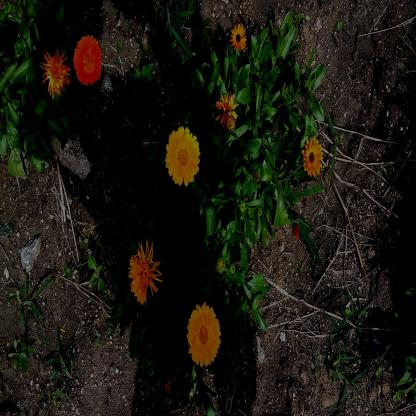marigold: (127, 240, 163, 305), (186, 301, 221, 367), (164, 125, 201, 187), (40, 46, 70, 98), (73, 34, 102, 86), (301, 132, 323, 177), (229, 21, 248, 52)
